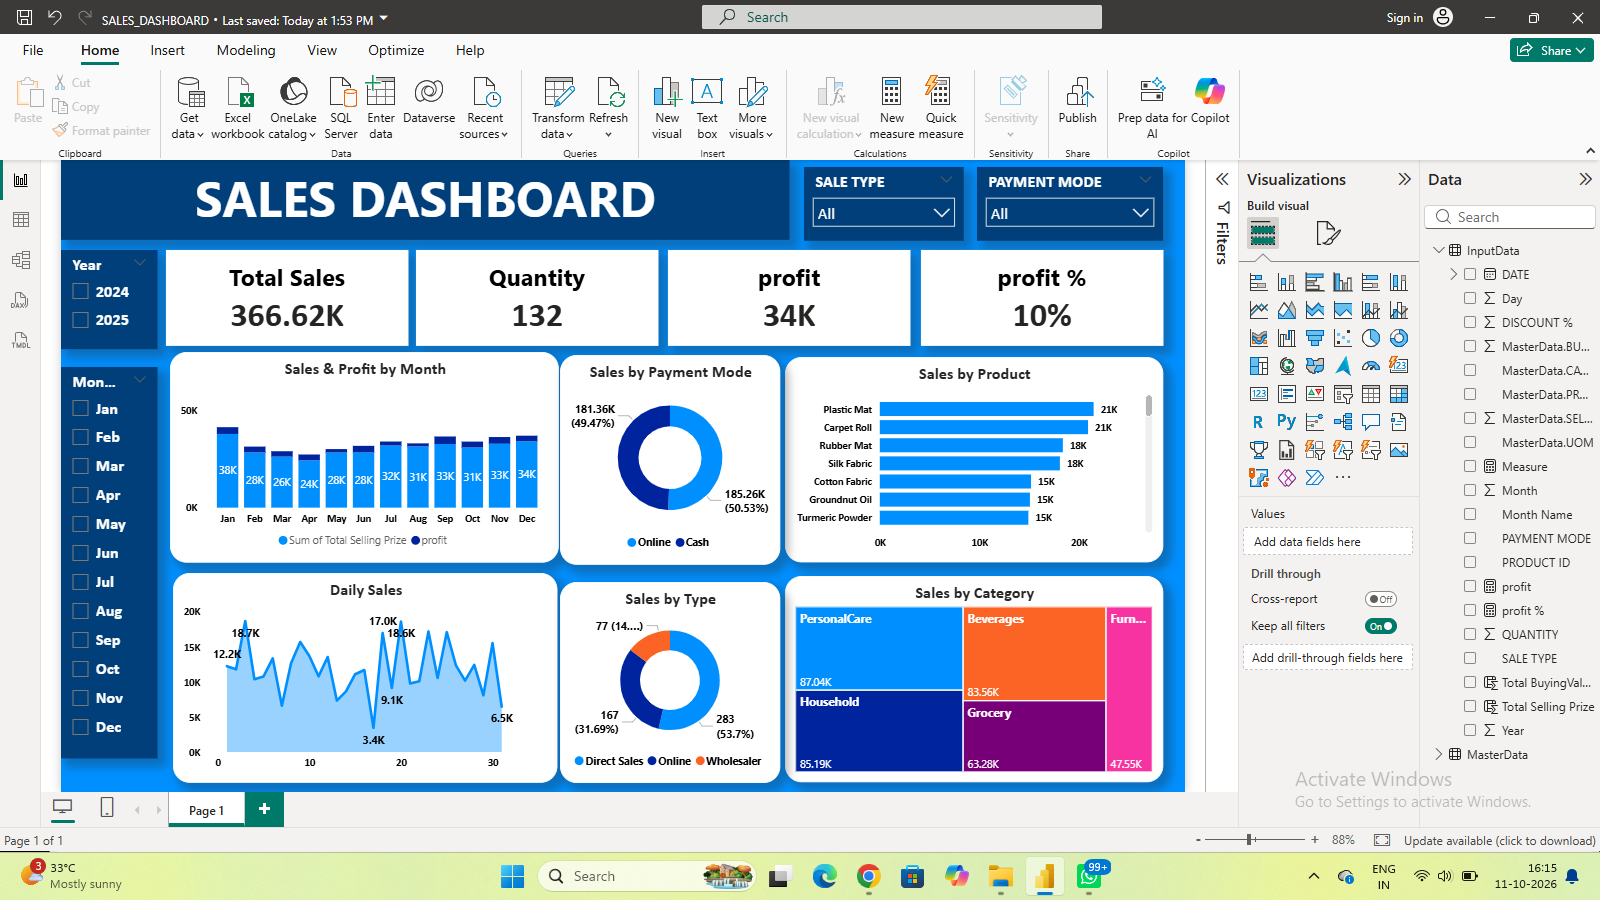

The dashboard page shown, as its layout file describes it:
{"tool":"powerbi","page":{"name":"Page 1","canvas":[1280,720],"ordinal":0},"visuals":[{"type":"textbox","box":[0,0,830.2,91.2],"z":0},{"type":"slicer","fields":{"Values":["InputData.Year"]},"box":[0,102.2,109.9,113],"z":1000},{"type":"slicer","fields":{"Values":["InputData.Month Name"]},"box":[0,235.4,109.9,445.9],"z":2000},{"type":"slicer","fields":{"Values":["InputData.SALE TYPE"]},"box":[846.9,7.7,182.5,83.5],"z":3000},{"type":"slicer","fields":{"Values":["InputData.PAYMENT MODE"]},"box":[1043.5,7.7,212,83.5],"z":4000},{"type":"cardVisual","fields":{"Data":["Sum(InputData.Total Selling Prize)"]},"box":[119.5,102.8,276.3,109.2],"z":5000},{"type":"cardVisual","fields":{"Data":["Sum(InputData.QUANTITY)"]},"box":[404.8,102.8,276.3,109.2],"z":6000},{"type":"cardVisual","fields":{"Data":["InputData.profit"]},"box":[691.4,102.8,276.3,109.2],"z":7000},{"type":"cardVisual","fields":{"Data":["InputData.profit %"]},"box":[979.3,102.8,276.3,109.2],"z":8000},{"type":"columnChart","title":"Sales & Profit by Month","fields":{"Category":["InputData.Month Name"],"Y":["Sum(InputData.Total Selling Prize)","InputData.profit"]},"box":[124.7,218.5,443.4,240.3],"z":9000},{"type":"areaChart","title":"Daily Sales","fields":{"Category":["InputData.Day"],"Y":["Sum(InputData.Total Selling Prize)"]},"box":[127.2,470.4,438.2,239],"z":10000},{"type":"clusteredBarChart","title":"Sales by Product","fields":{"Category":["InputData.MasterData.PRODUCT"],"Y":["Sum(InputData.Total Selling Prize)"]},"box":[825.1,224.9,430.5,233.9],"z":11000},{"type":"treemap","title":"Sales by Category","fields":{"Values":["Sum(InputData.Total Selling Prize)"],"Group":["InputData.MasterData.CATEGORY"]},"box":[825.1,474.2,430.5,235.2],"z":12000},{"type":"donutChart","title":"Sales by Type","fields":{"Y":["CountNonNull(InputData.MasterData.PRODUCT)"],"Category":["InputData.SALE TYPE"]},"box":[568,480.6,250.6,228.8],"z":13000},{"type":"donutChart","title":"Sales by Payment Mode","fields":{"Y":["Sum(InputData.Total Selling Prize)"],"Category":["InputData.PAYMENT MODE"]},"box":[568,222.3,250.6,239],"z":14000}]}

Visuals, with their boxes on the page's 1280x720 design canvas (x1, y1, x2, y2). These are canvas units, not pixel positions in the 1600x900 screenshot, which may show the page scaled, cropped or inside an application window:
textbox: [0, 0, 830, 91]
slicer - InputData.Year: [0, 102, 110, 215]
slicer - InputData.Month Name: [0, 235, 110, 681]
slicer - InputData.SALE TYPE: [847, 8, 1029, 91]
slicer - InputData.PAYMENT MODE: [1044, 8, 1256, 91]
cardVisual - Sum(InputData.Total Selling Prize): [120, 103, 396, 212]
cardVisual - Sum(InputData.QUANTITY): [405, 103, 681, 212]
cardVisual - InputData.profit: [691, 103, 968, 212]
cardVisual - InputData.profit %: [979, 103, 1256, 212]
"Sales & Profit by Month" columnChart: [125, 218, 568, 459]
"Daily Sales" areaChart: [127, 470, 565, 709]
"Sales by Product" clusteredBarChart: [825, 225, 1256, 459]
"Sales by Category" treemap: [825, 474, 1256, 709]
"Sales by Type" donutChart: [568, 481, 819, 709]
"Sales by Payment Mode" donutChart: [568, 222, 819, 461]
